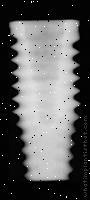Biomet 3i: (9, 19, 84, 182)
